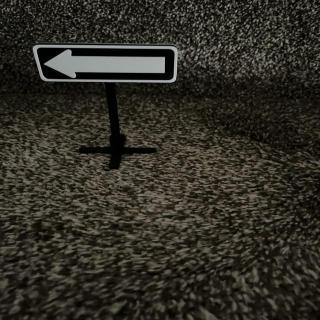sign_oneway_left: (34, 45, 180, 85)
